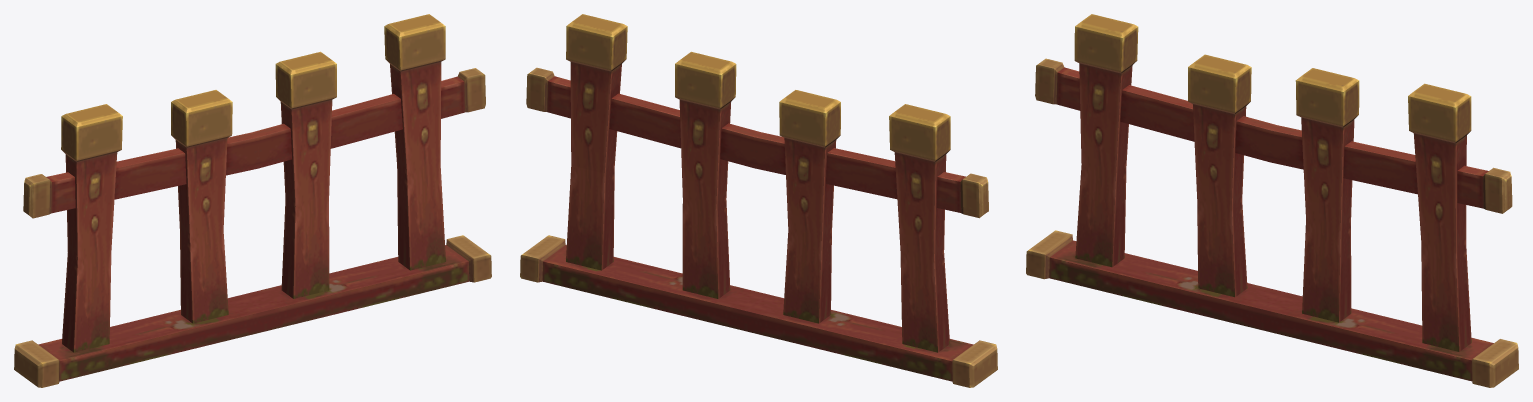
The model's file is shrine_wj001_20.FBX.
The picture shows the model from 3 angles, left to right: view 1: azimuth 30°, elevation 25°; view 2: azimuth 150°, elevation 25°; view 3: azimuth 330°, elevation 25°; orthographic projection. The views are drawn at different scales.
Visible parts, largest first — view 1: shrine_wj001_20; view 2: shrine_wj001_20; view 3: shrine_wj001_20.
Part boxes in pixels (x1=…): shrine_wj001_20: x1=14, y1=14, x2=491, y2=387; shrine_wj001_20: x1=520, y1=14, x2=997, y2=387; shrine_wj001_20: x1=1026, y1=14, x2=1518, y2=387.
Bounding box in the file's own units: 174 × 94.86 × 17.95.
Materials: 1 (1 with a texture image).
